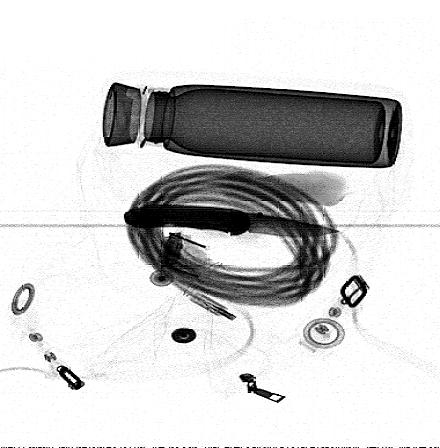Knife: (123, 204, 341, 239)
